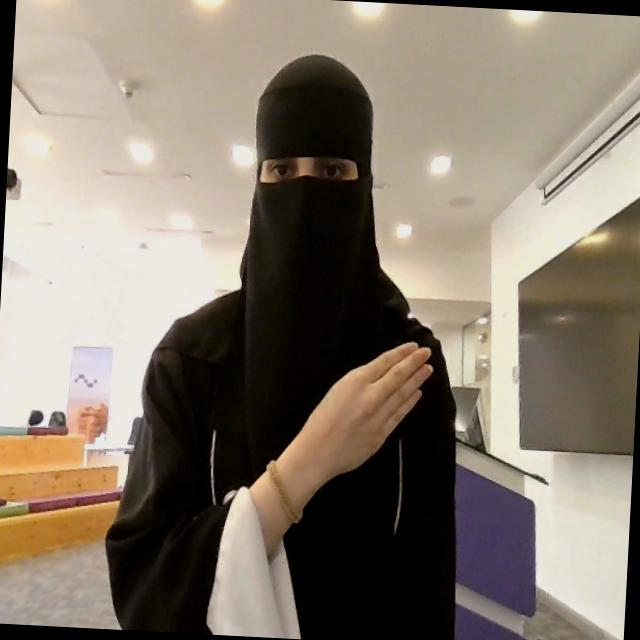result: (270, 332, 436, 525)
